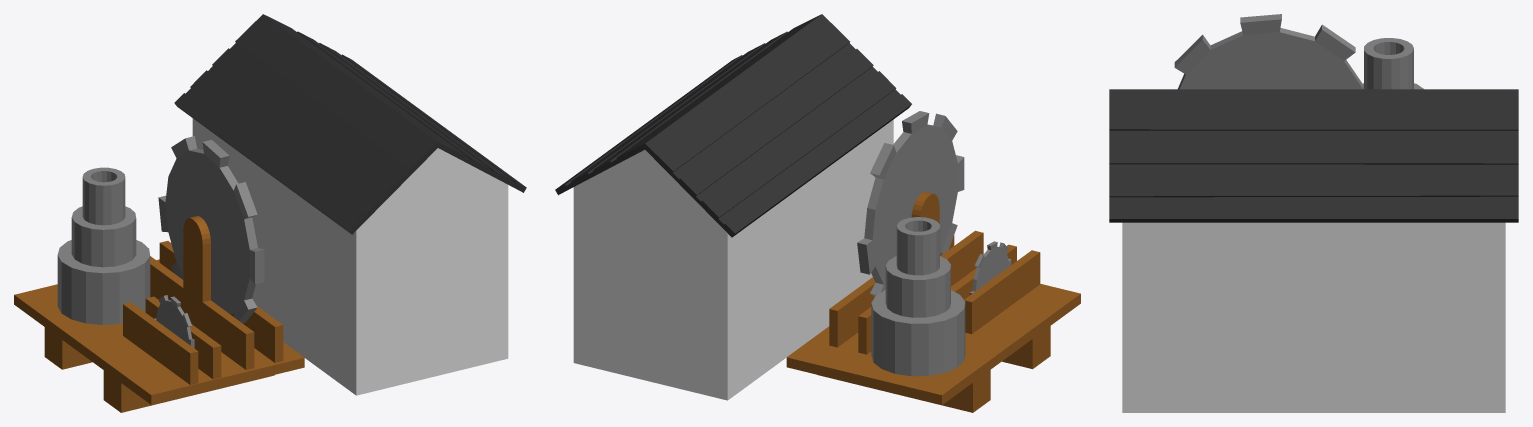
Rendered from lumbermill.fbx.
3 renders of one model, left to right at view 1: azimuth 30°, elevation 25°; view 2: azimuth 150°, elevation 25°; view 3: azimuth 270°, elevation 25°, orthographic. The views are drawn at different scales.
Visible parts, largest first — view 1: Cube; view 2: Cube; view 3: Cube.
Part boxes in pixels (box(x1,y1,x2,y2)): Cube: box(14, 14, 526, 412); Cube: box(555, 14, 1080, 412); Cube: box(1109, 14, 1518, 412).
Size of the model in its own units: 413 by 348 by 262.
